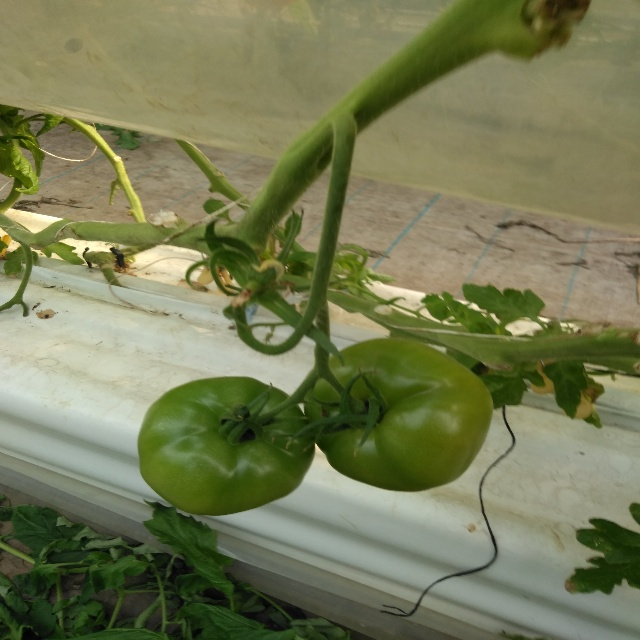b_green: (304, 338, 494, 492), (137, 376, 316, 516)
